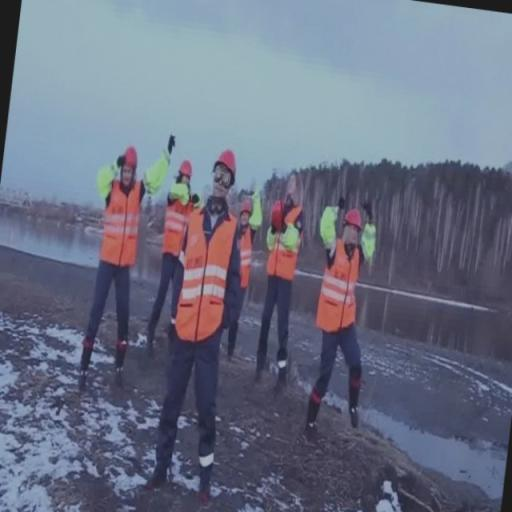Person: (162, 157, 244, 491), (310, 194, 380, 444), (82, 137, 148, 378), (262, 157, 302, 396), (155, 150, 188, 348)
helmet: (214, 148, 242, 182), (340, 206, 365, 228), (236, 196, 256, 218), (269, 201, 289, 223), (120, 145, 140, 167), (178, 155, 193, 176)
vest: (174, 204, 226, 342), (318, 237, 366, 338), (98, 178, 146, 272), (264, 220, 314, 282), (234, 224, 266, 287), (165, 194, 190, 258)
